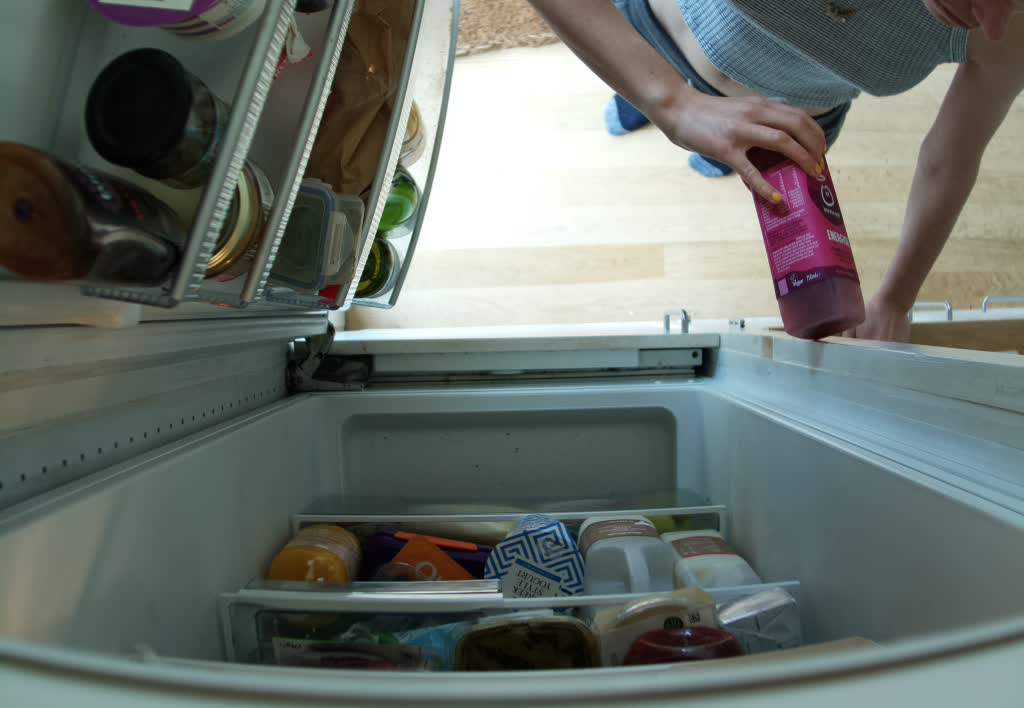juice: (745, 91, 866, 343)
